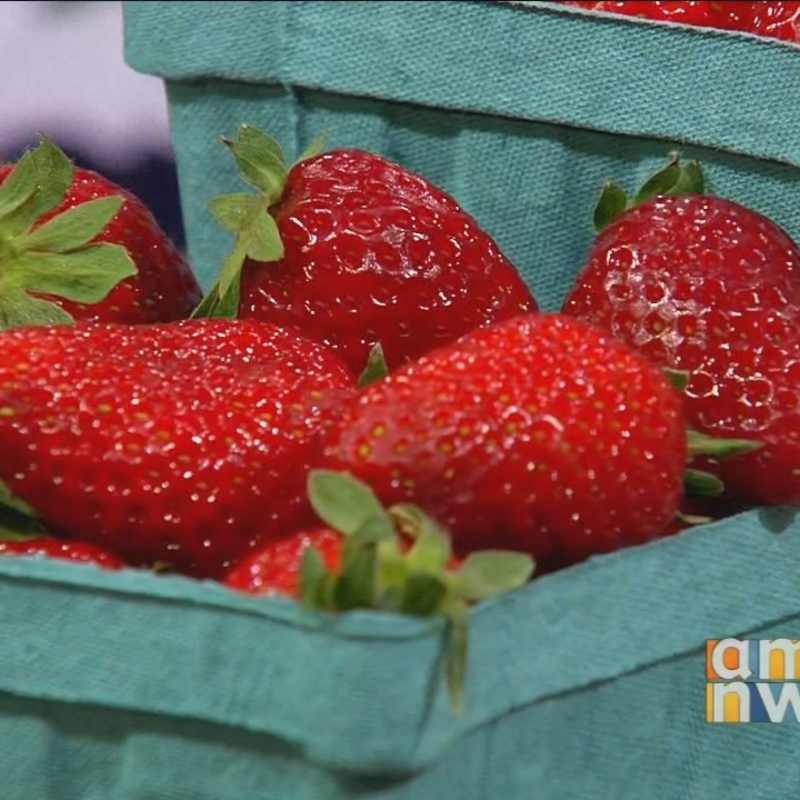ripe: (0, 314, 382, 588), (365, 303, 690, 573), (220, 130, 564, 382), (569, 168, 798, 517), (2, 138, 197, 369)
